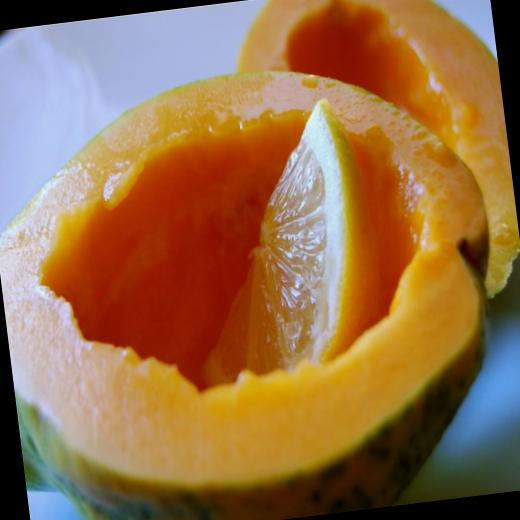Grape: (171, 95, 391, 390)
